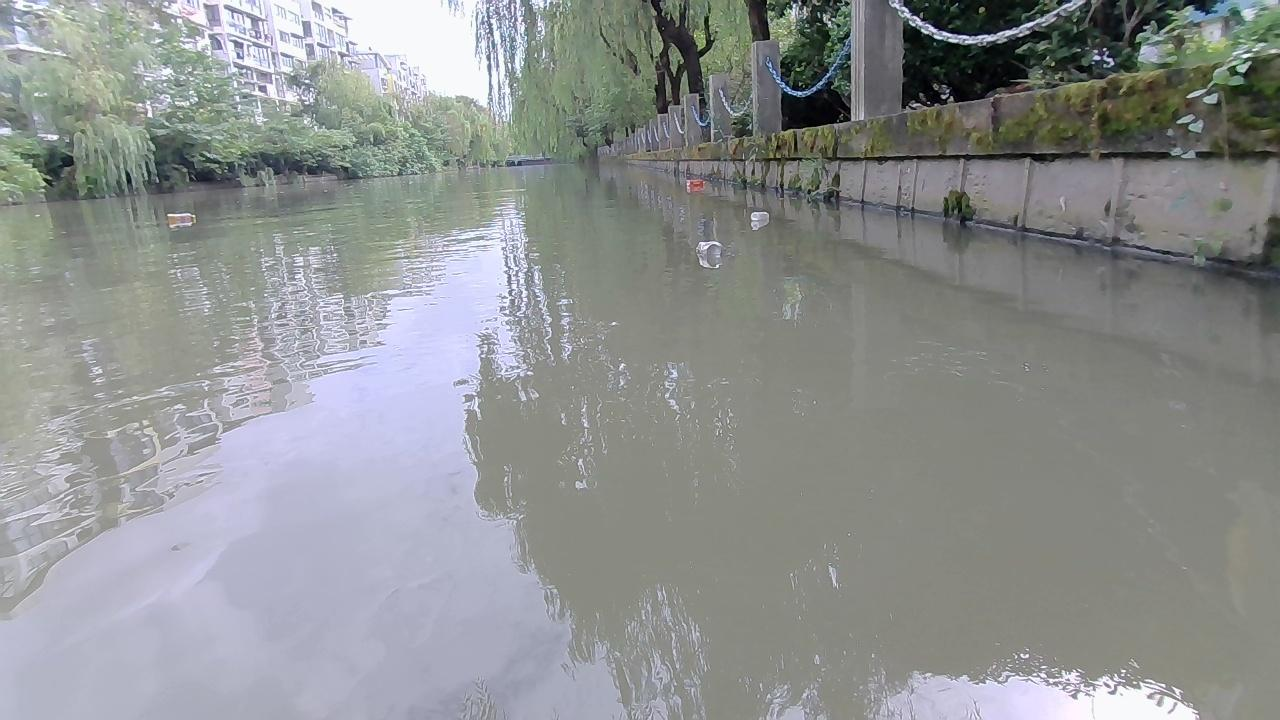bottle: (160, 209, 198, 231), (696, 237, 725, 262), (680, 177, 706, 193), (748, 211, 773, 225)
